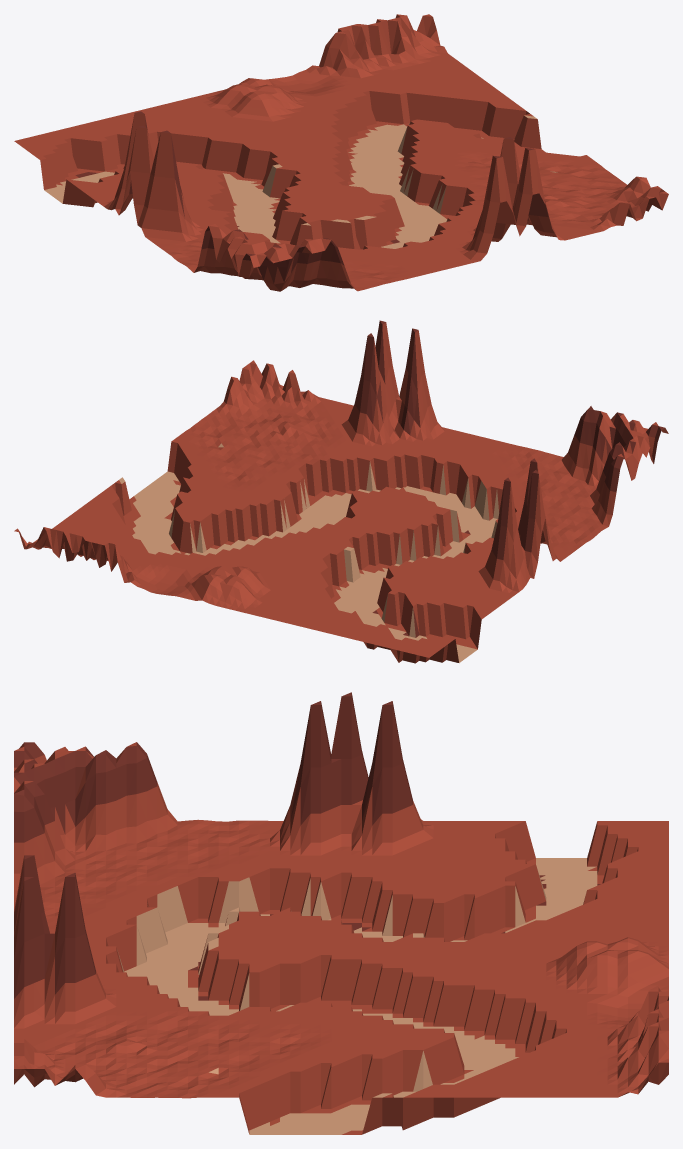
The model's file is Map2.dae.
The picture shows the model from 3 angles, top to bottom: view 1: azimuth 30°, elevation 25°; view 2: azimuth 150°, elevation 25°; view 3: azimuth 270°, elevation 25°; orthographic projection. The views are drawn at different scales.
Parts seen in each view (by area): view 1: Plane; view 2: Plane; view 3: Plane.
Boxes of the visible parts, box(x1,y1,x2,y2) form: Plane: box(14, 14, 668, 291); Plane: box(14, 320, 668, 663); Plane: box(14, 692, 668, 1134).
Bounding box in the file's own units: 15.98 × 15.98 × 4.58.
